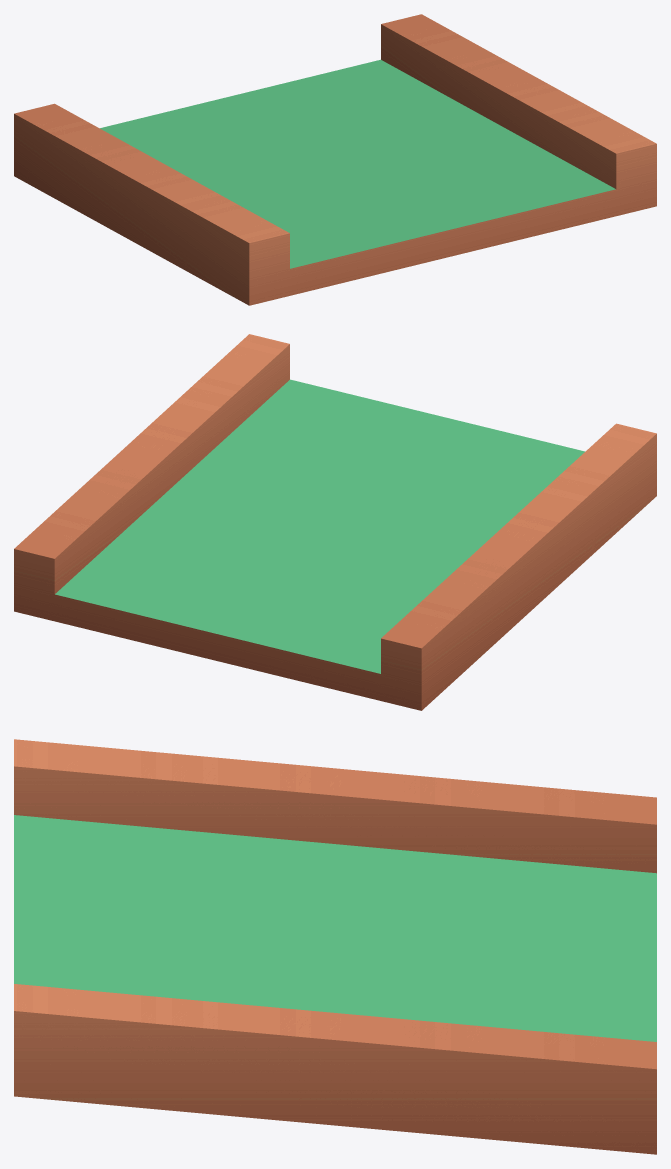
Rendered from ramp-low.glb.
3 renders of one model, top to bottom at view 1: azimuth 30°, elevation 25°; view 2: azimuth 150°, elevation 25°; view 3: azimuth 270°, elevation 25°, orthographic. The views are drawn at different scales.
Visible parts, largest first — view 1: ramp-low; view 2: ramp-low; view 3: ramp-low.
Part boxes in pixels (box(x1,y1,x2,y2)): ramp-low: box(14, 14, 656, 305); ramp-low: box(14, 334, 656, 710); ramp-low: box(14, 739, 656, 1154).
Bounding box in the file's own units: 0.9999 × 0.2467 × 0.9999.
Materials: 1 (1 with a texture image).
